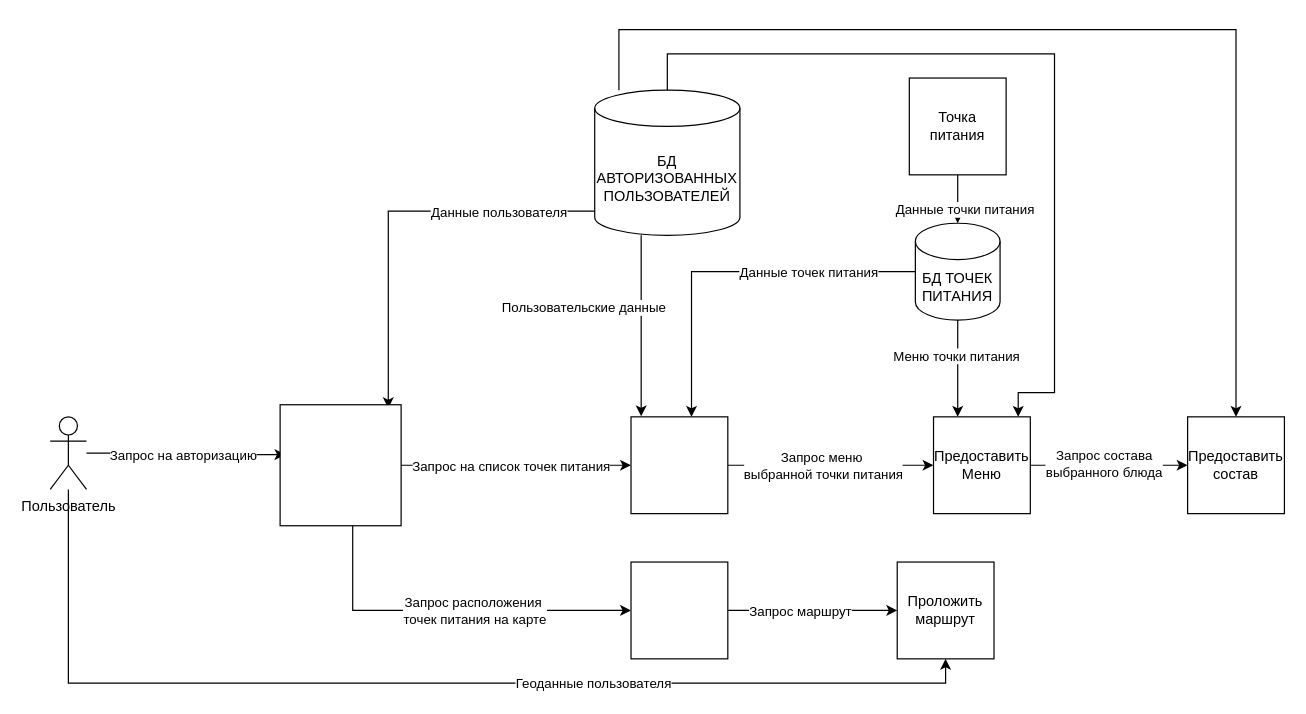
This 1306x714 diagram has some shape labels left out. The shapes that lost their labels are listed below. From the top down, each one's centre as x and y in pixels, then its label:
At (x=340, y=465): "Авторизоваться".
At (x=679, y=465): "Предоставить список точек питания".
At (x=679, y=610): "Карта кампуса".
